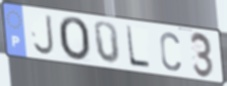0: (93, 20, 122, 66)
3: (189, 31, 215, 80)
C: (158, 30, 183, 73)
J: (32, 13, 56, 57)
L: (124, 24, 152, 71)
O: (56, 15, 91, 63)
